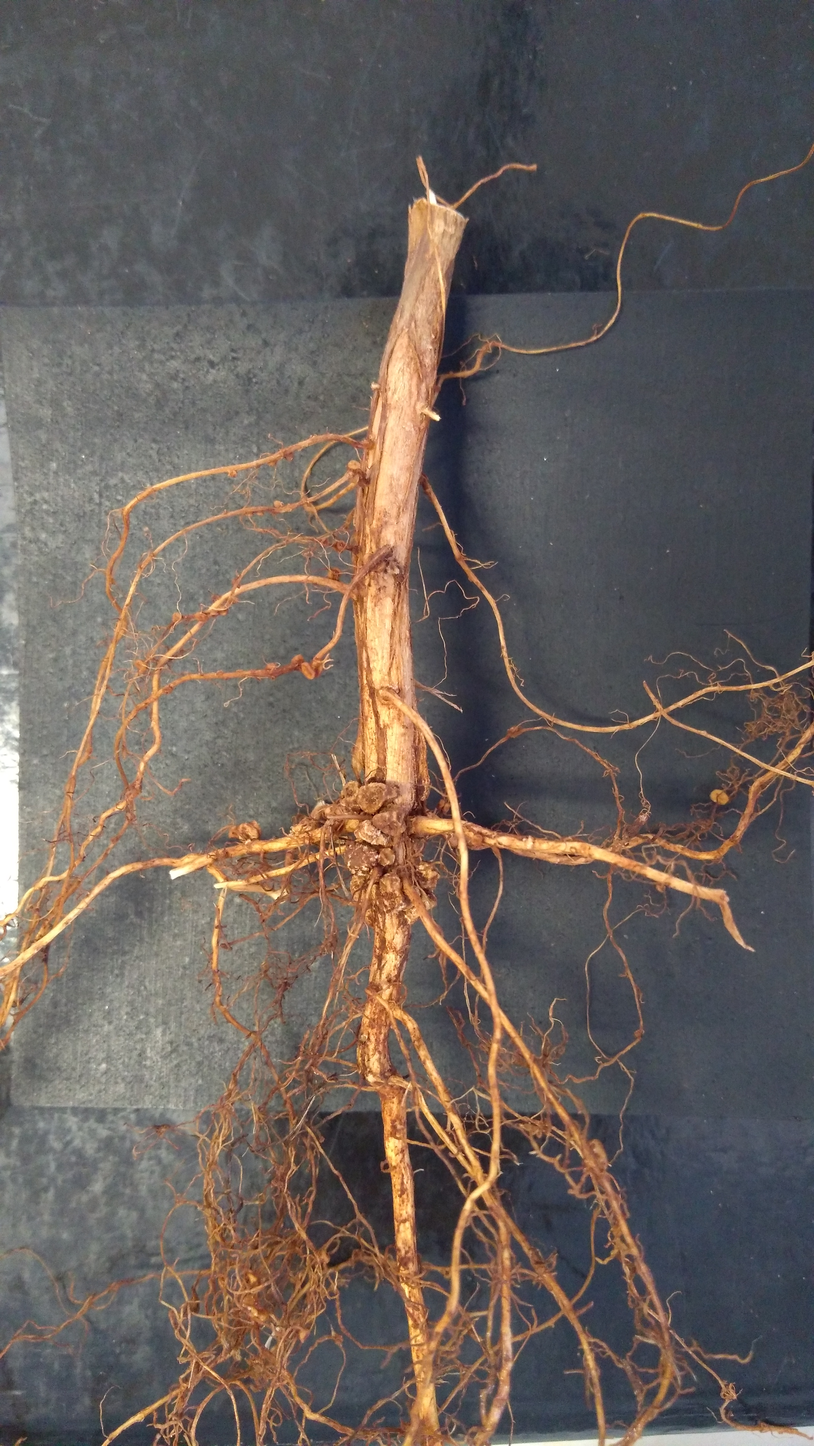nodule: (340, 837, 379, 880), (356, 779, 400, 814), (225, 817, 264, 846), (355, 818, 391, 848), (369, 810, 408, 836), (337, 776, 364, 813), (415, 858, 441, 888), (587, 1134, 609, 1169), (237, 1294, 260, 1320), (377, 846, 400, 868), (708, 787, 732, 807), (349, 875, 368, 900), (419, 888, 438, 910), (255, 1306, 273, 1329), (341, 815, 362, 834), (468, 831, 488, 850), (393, 892, 413, 911), (380, 872, 401, 890), (298, 661, 316, 681), (294, 1325, 312, 1345), (324, 565, 342, 584), (513, 1046, 529, 1067), (405, 906, 421, 925), (169, 609, 186, 626), (288, 652, 306, 667), (245, 1267, 259, 1286), (445, 832, 459, 850), (364, 907, 376, 928), (193, 609, 208, 625), (507, 724, 523, 739), (346, 457, 362, 471), (133, 658, 147, 672), (441, 801, 453, 815), (263, 660, 277, 671), (436, 798, 445, 814), (633, 1028, 645, 1039), (272, 498, 283, 509), (284, 451, 295, 462), (209, 592, 221, 602), (219, 607, 231, 616), (228, 469, 238, 478), (209, 610, 220, 618), (267, 459, 277, 466), (215, 669, 225, 676), (256, 510, 264, 517), (236, 668, 245, 674), (244, 513, 253, 517)
